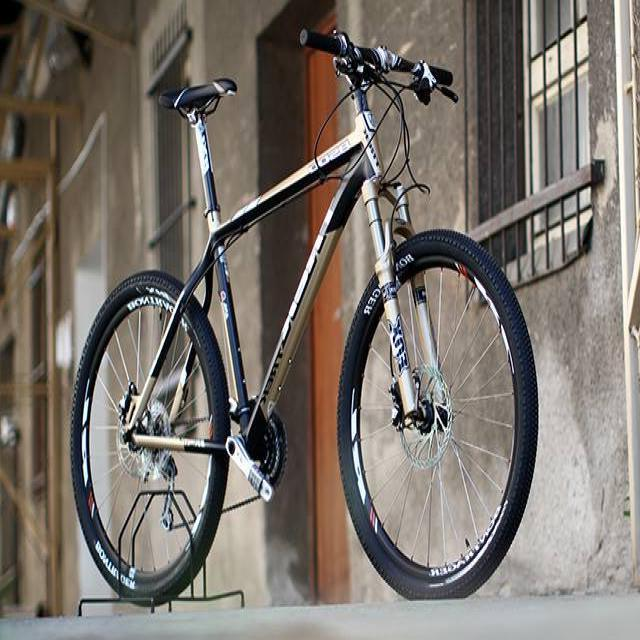Bicycle: (34, 25, 561, 612)
